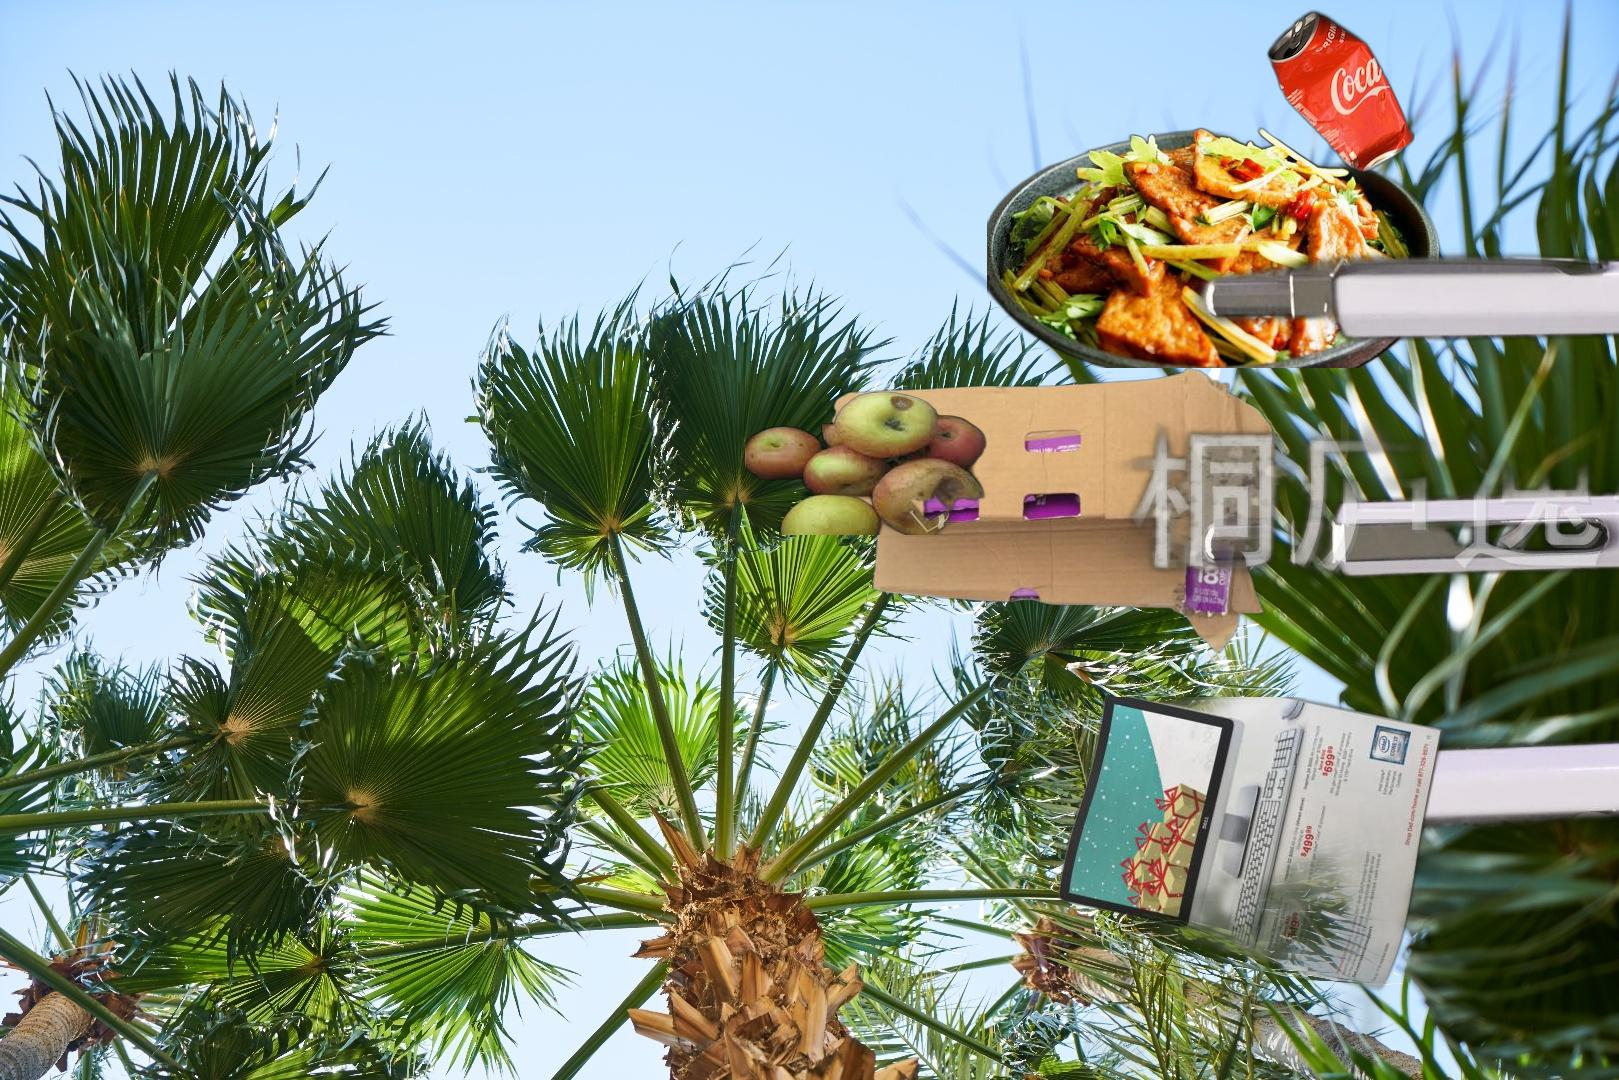biological: (987, 125, 1488, 368), (745, 389, 989, 535)
metal-cans: (1265, 6, 1418, 177)
paper: (972, 697, 1448, 1080)
penholder: (1039, 242, 1619, 974)
shoes: (1084, 491, 1228, 604)
trashbox-cardboard: (819, 364, 1279, 656)
